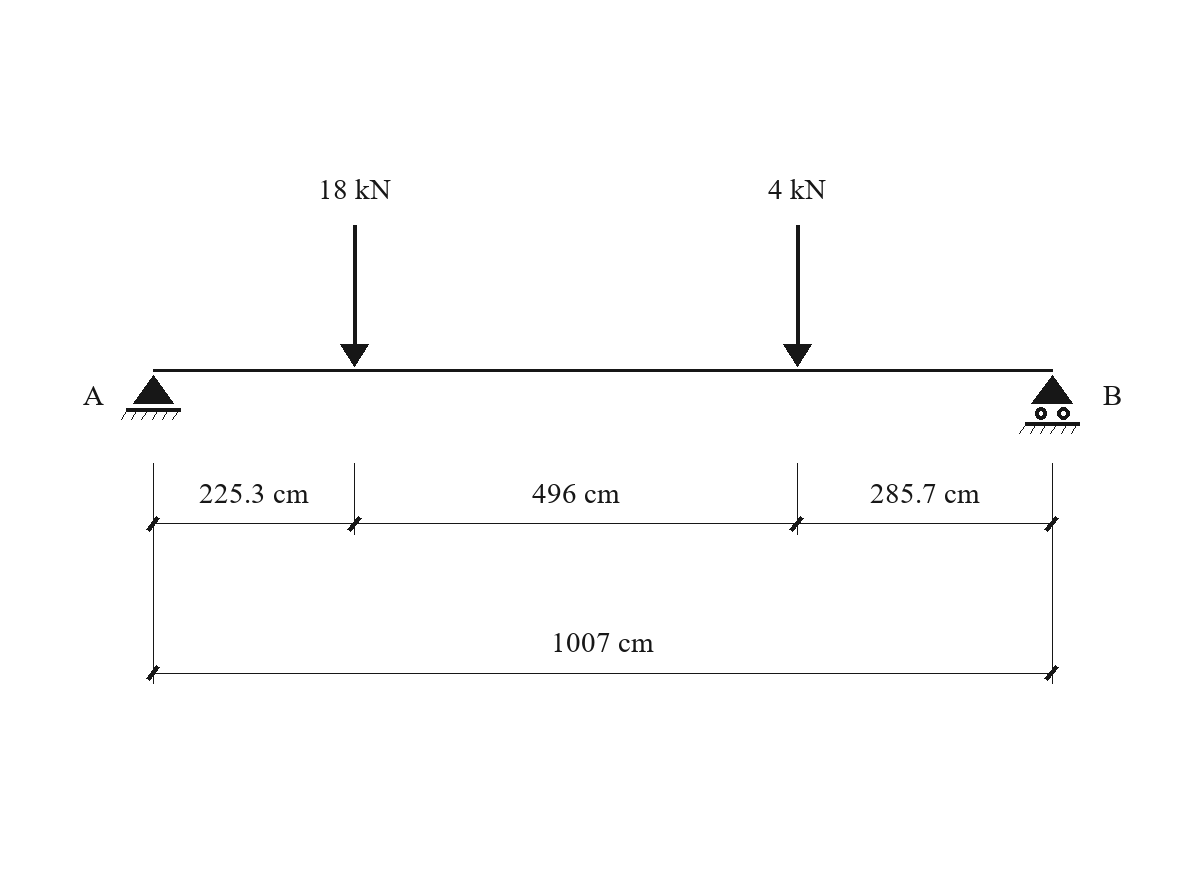pin_support: (121, 375, 181, 420)
point_load: (340, 225, 369, 367), (783, 225, 812, 367)
roller_support: (1019, 375, 1080, 434)
